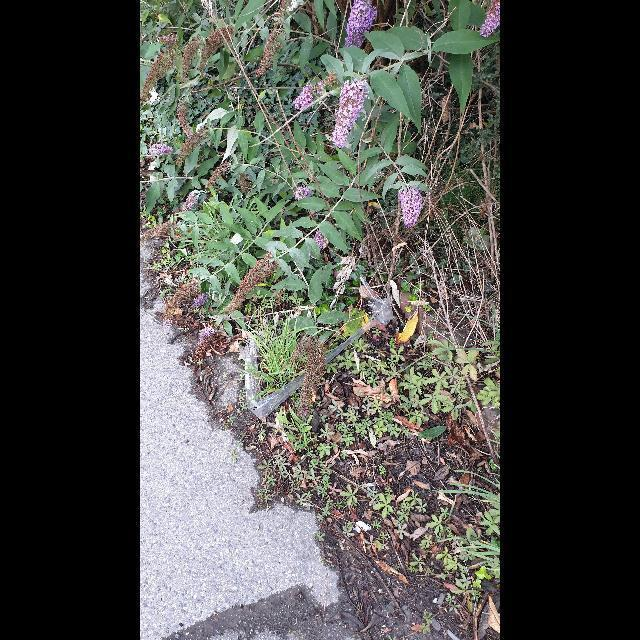Plastic: (245, 275, 393, 421)
